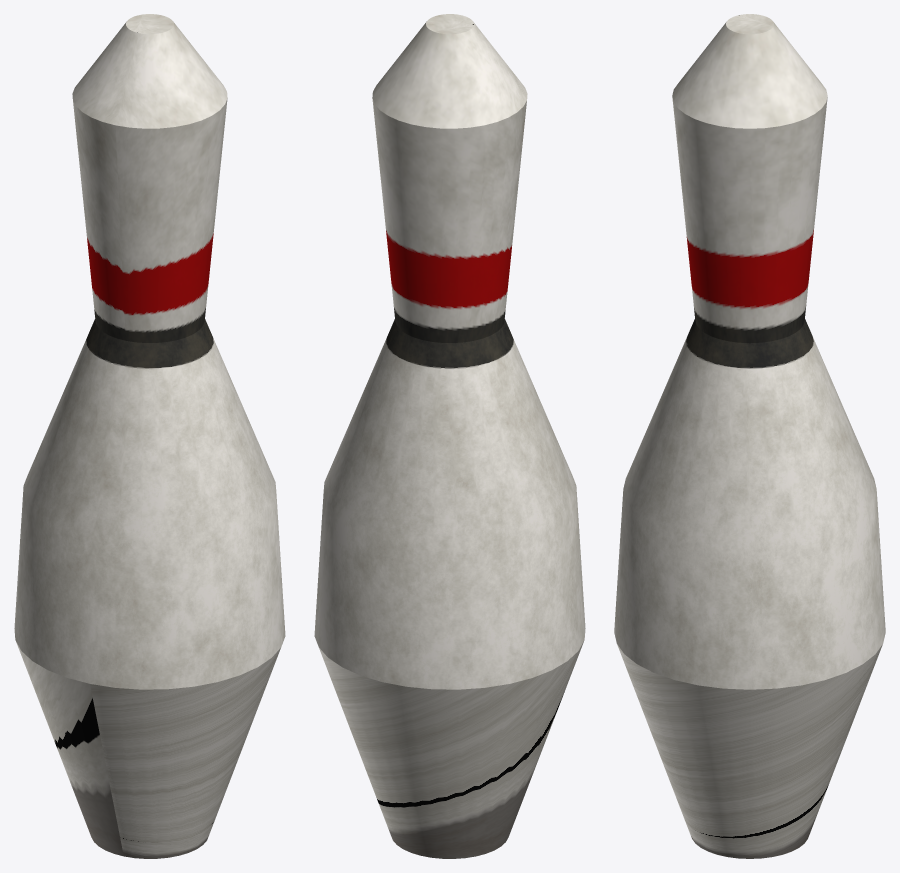
Rendered from Bowling Pin Low Polly.fbx.
The picture shows the model from 3 angles, left to right: view 1: azimuth 30°, elevation 25°; view 2: azimuth 150°, elevation 25°; view 3: azimuth 270°, elevation 25°; orthographic projection.
Parts seen in each view (by area): view 1: Bowling Pin Low Polly; view 2: Bowling Pin Low Polly; view 3: Bowling Pin Low Polly.
Part boxes in pixels (x1,y1,x2,y2): Bowling Pin Low Polly: (14, 14, 285, 858); Bowling Pin Low Polly: (314, 14, 585, 858); Bowling Pin Low Polly: (614, 14, 885, 858).
Bounding box in the file's own units: 127 × 418 × 127.
